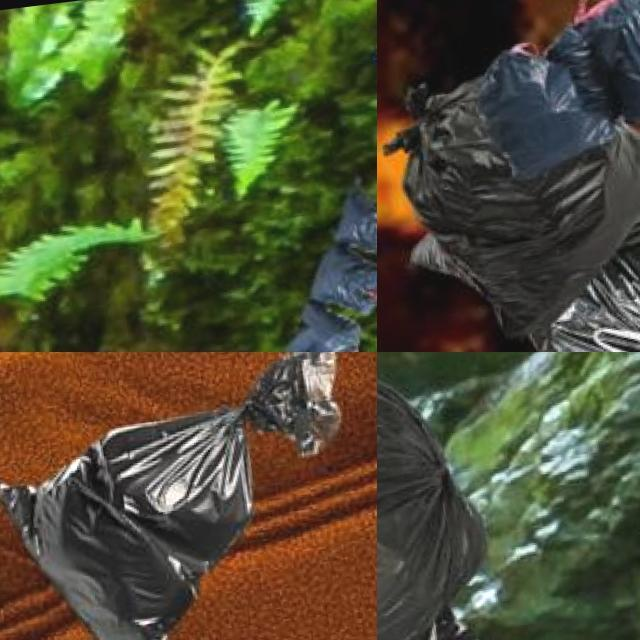waste: (390, 27, 640, 352), (0, 388, 276, 640), (377, 352, 507, 640), (377, 361, 494, 640), (552, 0, 640, 123), (302, 238, 377, 317), (281, 296, 366, 352), (330, 180, 377, 263)
